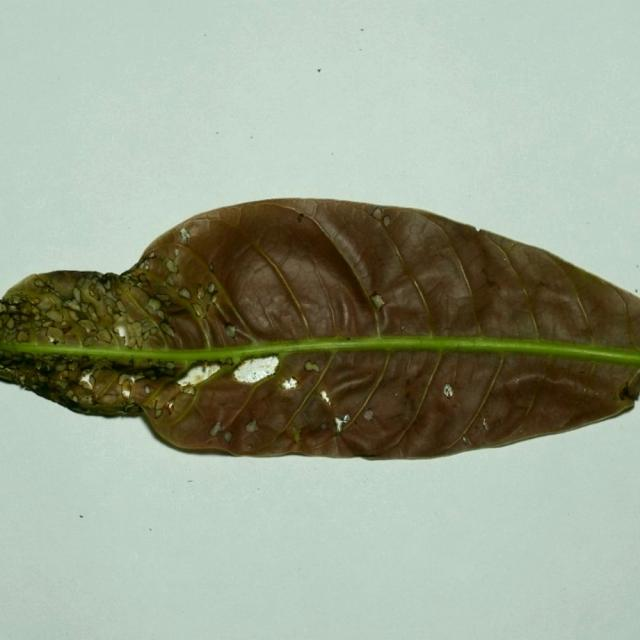Anthracnose: (231, 357, 281, 388), (175, 362, 221, 388), (79, 371, 96, 390), (334, 414, 350, 433), (369, 293, 386, 310), (303, 359, 321, 373), (113, 324, 128, 340), (210, 421, 223, 437), (245, 419, 259, 433), (224, 323, 237, 338), (147, 298, 162, 311), (180, 227, 191, 244), (319, 390, 331, 405), (178, 287, 191, 300), (166, 259, 178, 273), (181, 385, 196, 395), (362, 409, 374, 421), (371, 207, 383, 219), (443, 383, 453, 397), (223, 431, 233, 444), (131, 373, 145, 382), (122, 385, 131, 398), (382, 215, 391, 227), (207, 282, 216, 294), (47, 335, 58, 344), (165, 402, 174, 413), (482, 418, 489, 430), (343, 414, 351, 423), (144, 385, 151, 394), (475, 226, 482, 233), (462, 436, 468, 444)
Mango: (0, 198, 639, 464)
